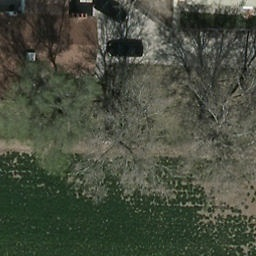car: (91, 0, 134, 24), (104, 41, 144, 58)
